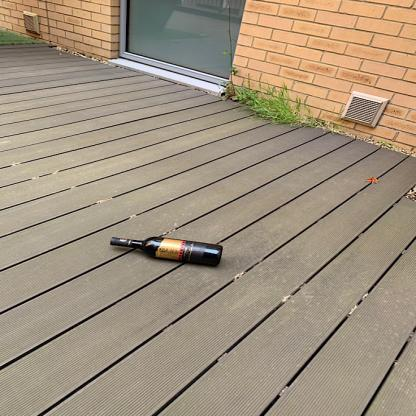trash: (106, 236, 224, 268)
